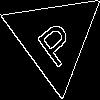P: (29, 13, 80, 70)
